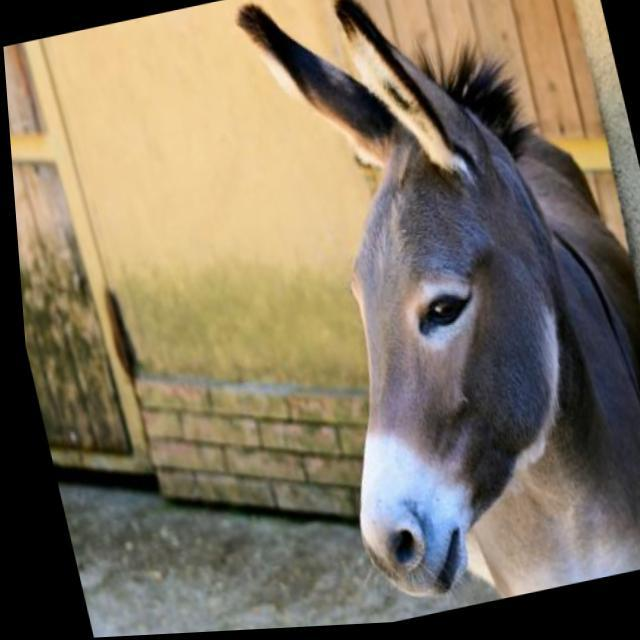Donkey: (228, 0, 640, 631)
